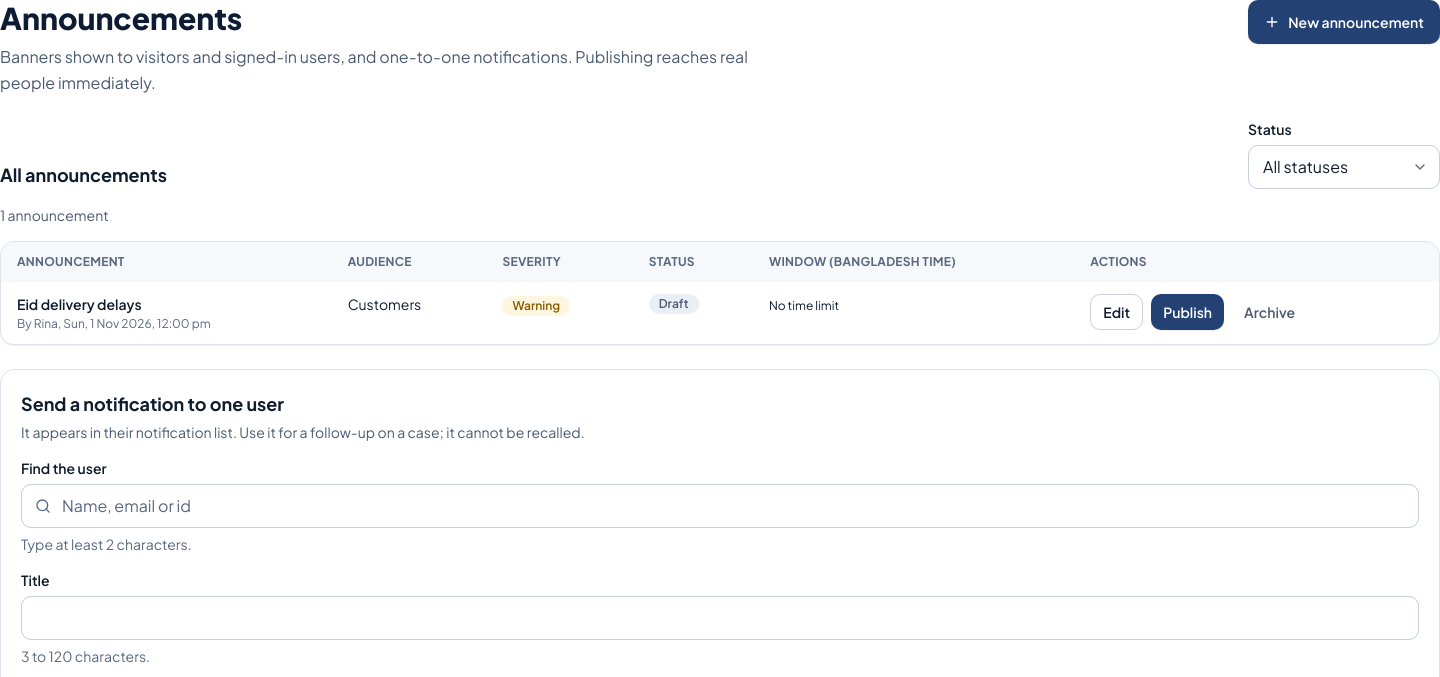
Test case: admin announcements › publishes only after a confirmation that names the audience, and sends confirm: true
Click the button with aria-label "Publish Eid delivery delays" at (1188, 312), box [1151,294,1224,330]
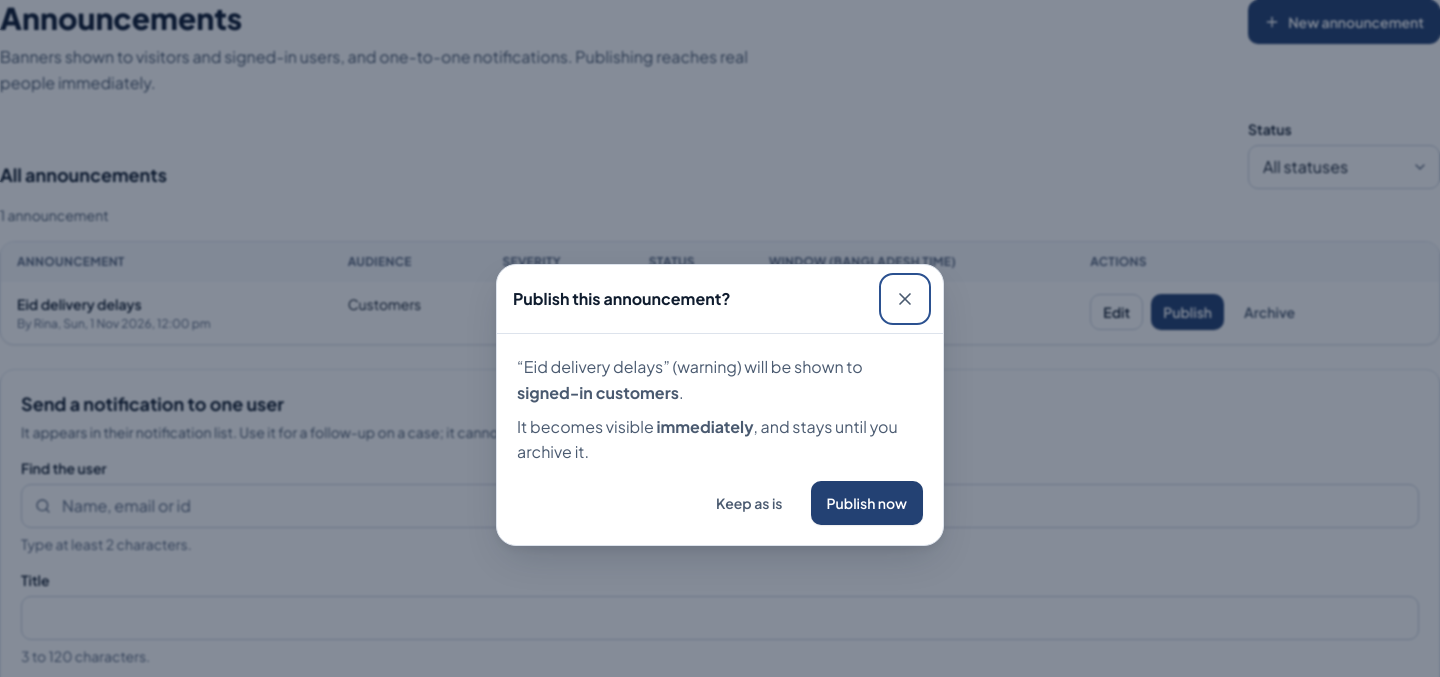
Expected: the text "signed-in customers" is shown, [517,382,679,403]
Expected: the text "immediately" is shown, [656,416,754,436]
Click the button "Publish now" at (867, 503), box [810,481,923,525]
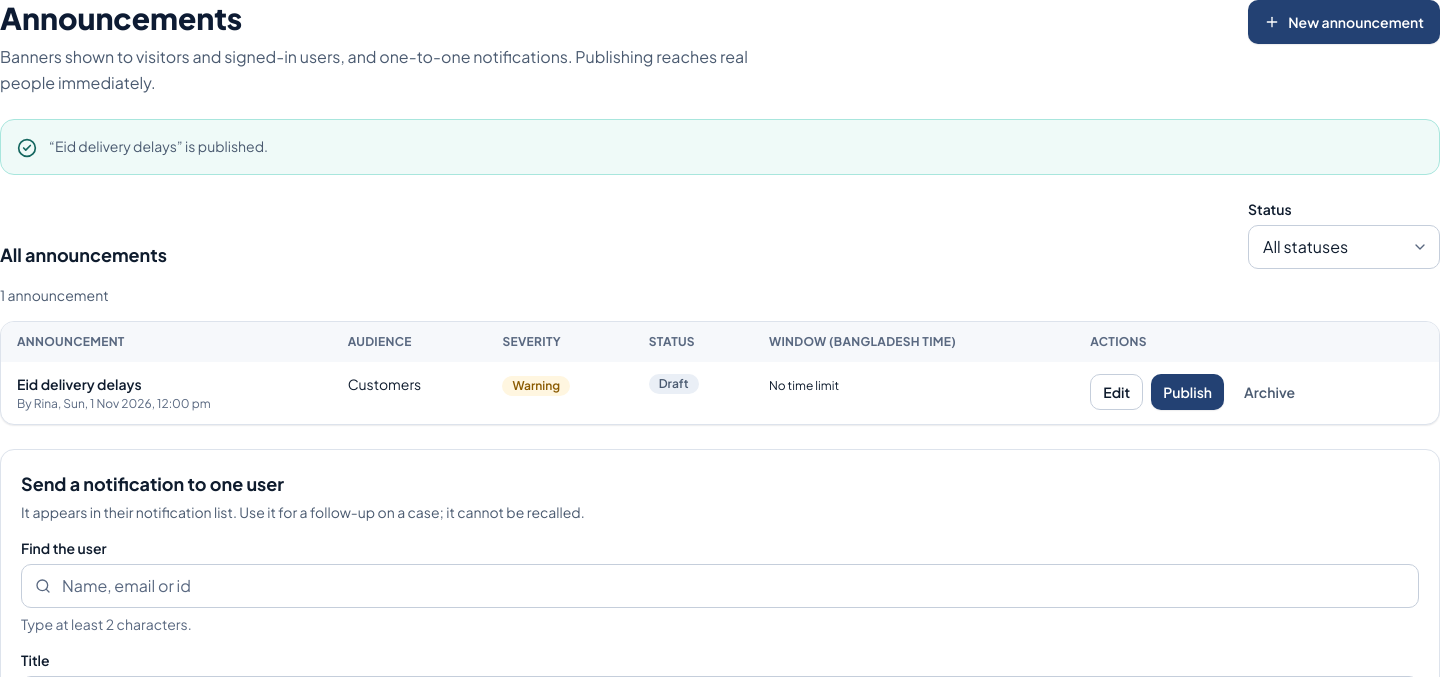
Expected: the text "“Eid delivery delays” is published." is shown, [49,136,268,156]
